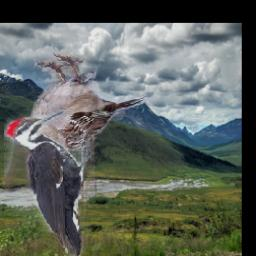Sparrow: (23, 51, 147, 162)
Woodpecker: (5, 110, 98, 256)
